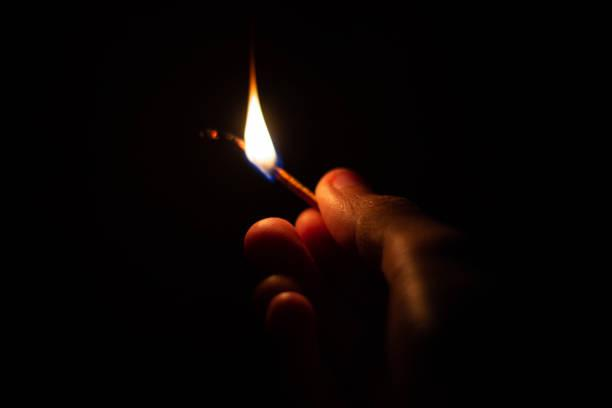Fire: (240, 54, 281, 180)
